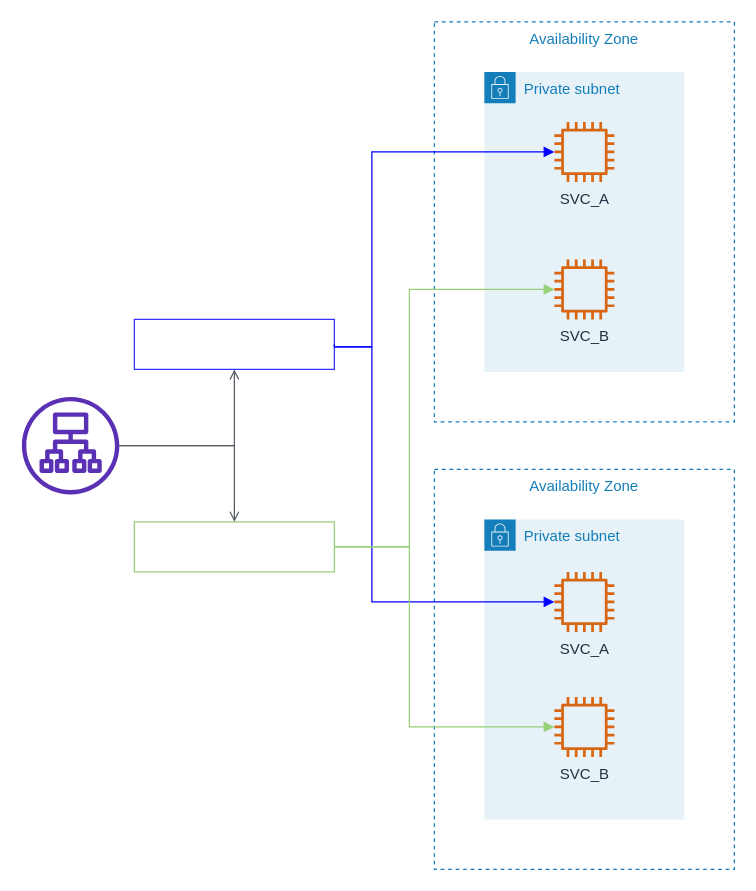
Image size: 756x891. Some labels were removed from this diagram. Each missing label, with the centre of its shape:
"Target Group: SVC_A" belongs at point 233,343.
"Target Group: SVC_B" belongs at point 233,546.
